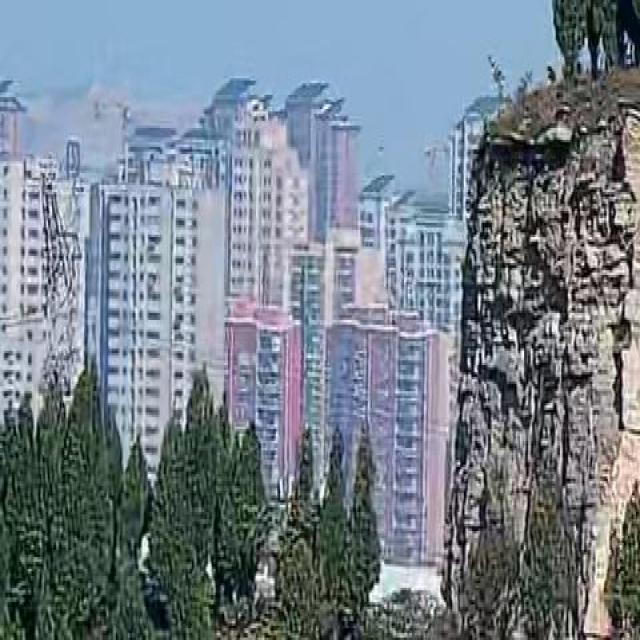other: (394, 156, 615, 550)
